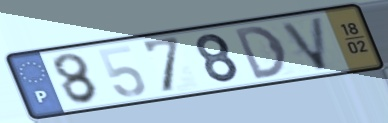5: (94, 43, 148, 99)
7: (141, 34, 185, 96)
8: (51, 51, 102, 106), (194, 32, 242, 84)
D: (231, 23, 291, 82)
V: (277, 14, 331, 73)
